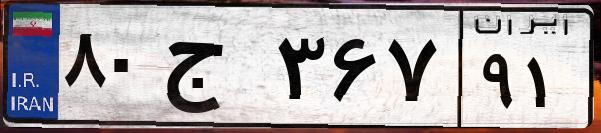0: (110, 28, 158, 98)
1: (525, 38, 570, 115)
3: (270, 28, 330, 110)
6: (330, 28, 385, 110)
7: (385, 28, 445, 110)
8: (57, 26, 110, 100)
9: (475, 38, 525, 113)
ج: (158, 20, 270, 120)
